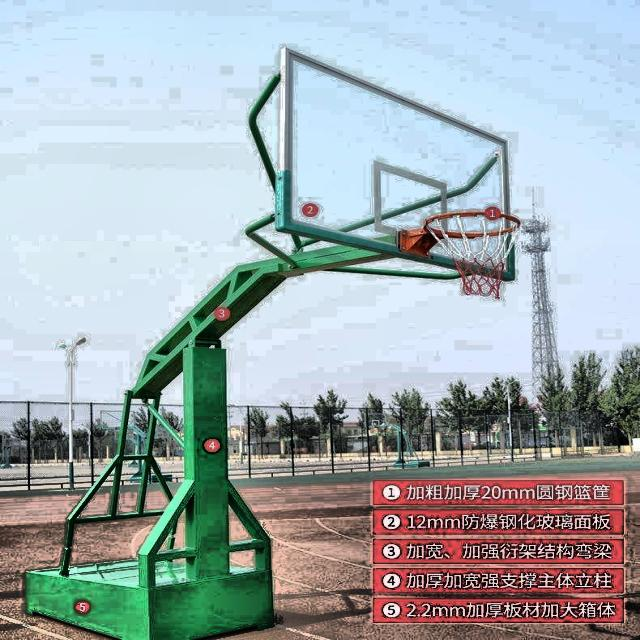rim: (424, 209, 521, 298)
